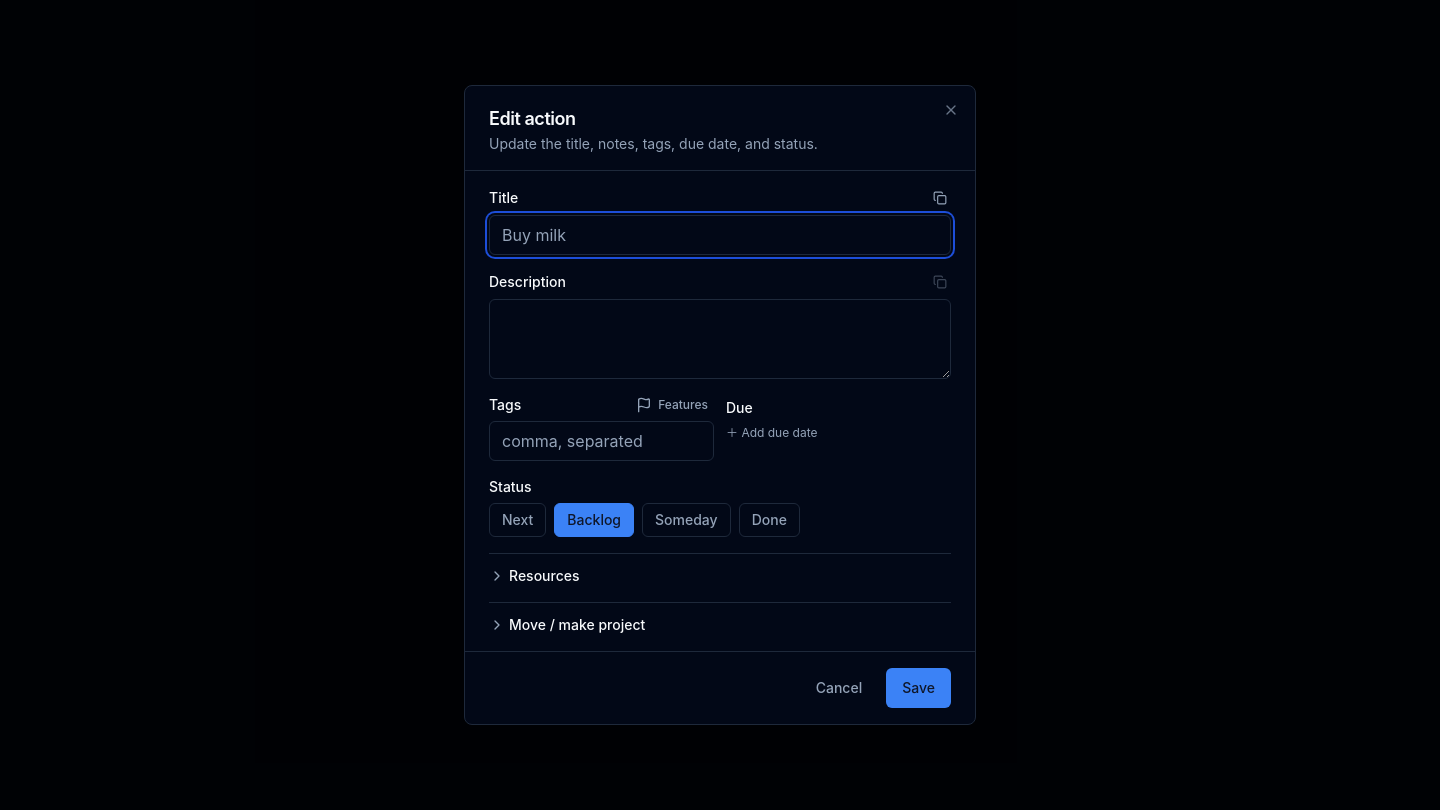
Scenario: ActionDialog › collapses the occasional sections by default, expanding on click
Expected: the button "Add resource…" is not shown
Click the button "Resources".
click(544, 576)  # box [489, 566, 951, 586]
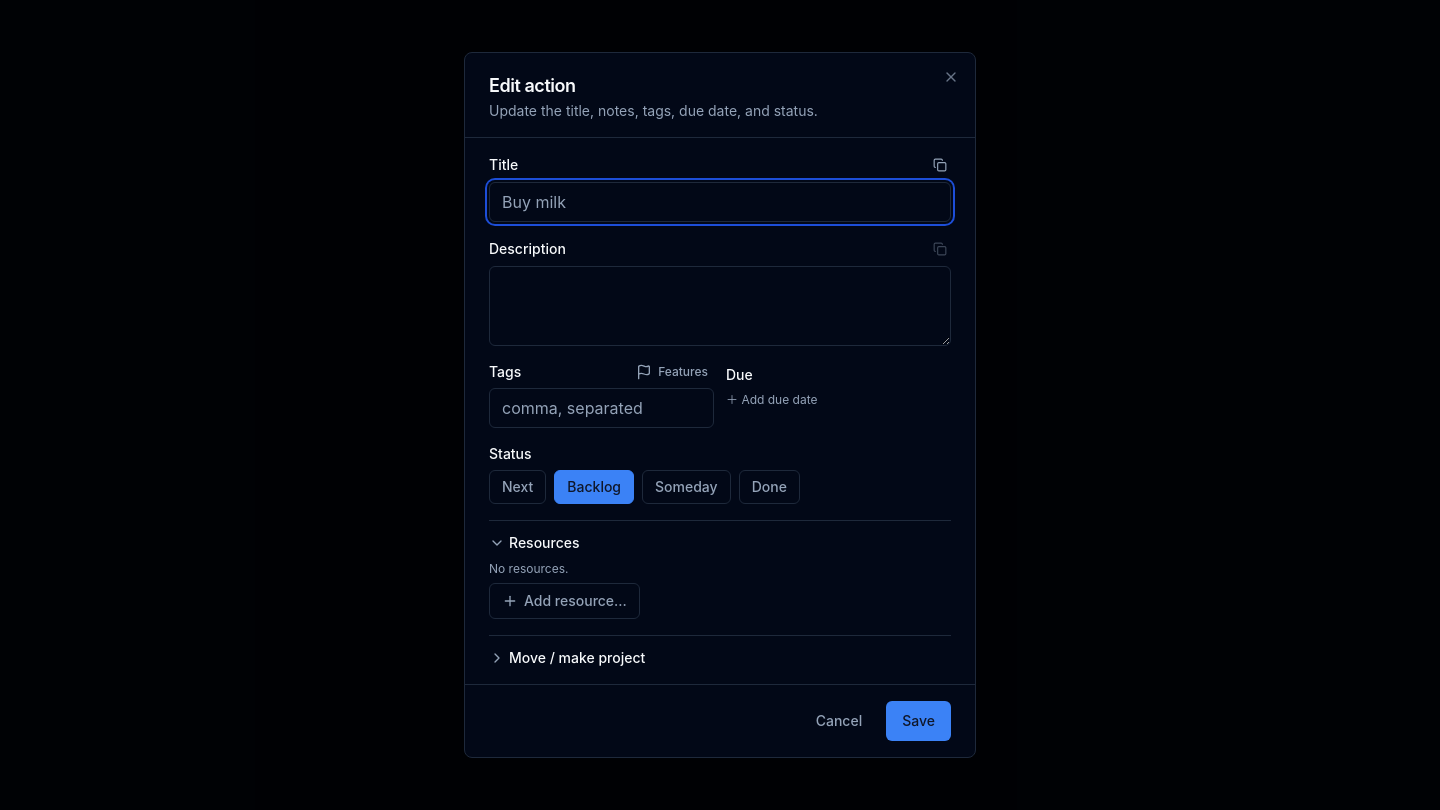
Expected: the button "Add resource…" is shown, [489, 583, 640, 619]
